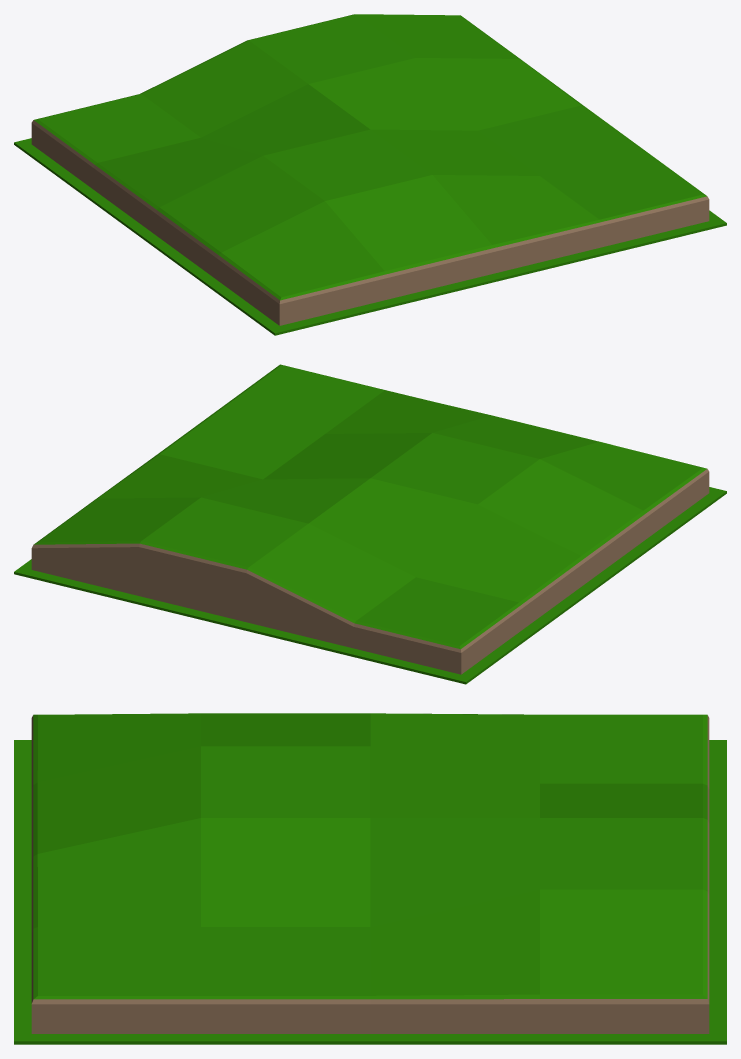
Rendered from Hill_XL.fbx.
The picture shows the model from 3 angles, top to bottom: view 1: azimuth 30°, elevation 25°; view 2: azimuth 150°, elevation 25°; view 3: azimuth 270°, elevation 25°; orthographic projection. The views are drawn at different scales.
Parts seen in each view (by area): view 1: Plane; view 2: Plane; view 3: Plane.
Boxes of the visible parts, x1,y1,x2,y2 form: Plane: (14,14,726,335); Plane: (14,364,726,684); Plane: (14,713,726,1044).
Bounding box in the file's own units: 100 × 11.76 × 100.
